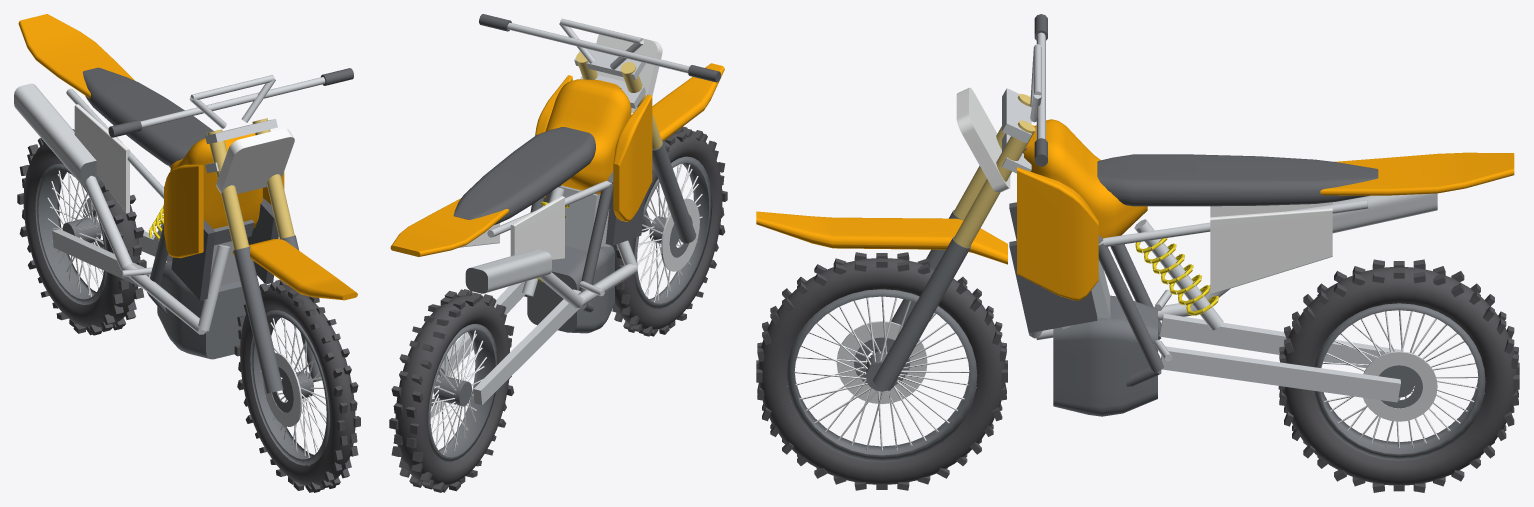
File: motorcycle-dirt.glb
3 views of the same model, side by side, from view 1: azimuth 30°, elevation 25°; view 2: azimuth 150°, elevation 25°; view 3: azimuth 270°, elevation 25° (orthographic). The views are drawn at different scales.
Parts seen in each view (by area): view 1: motorcycle-dirt; view 2: motorcycle-dirt; view 3: motorcycle-dirt.
Part boxes in pixels (x1,y1,x2,y2): motorcycle-dirt: (14, 14, 360, 492); motorcycle-dirt: (389, 14, 727, 492); motorcycle-dirt: (756, 14, 1519, 492).
Bounding box in the file's own units: 0.95 × 1.32 × 2.18.
